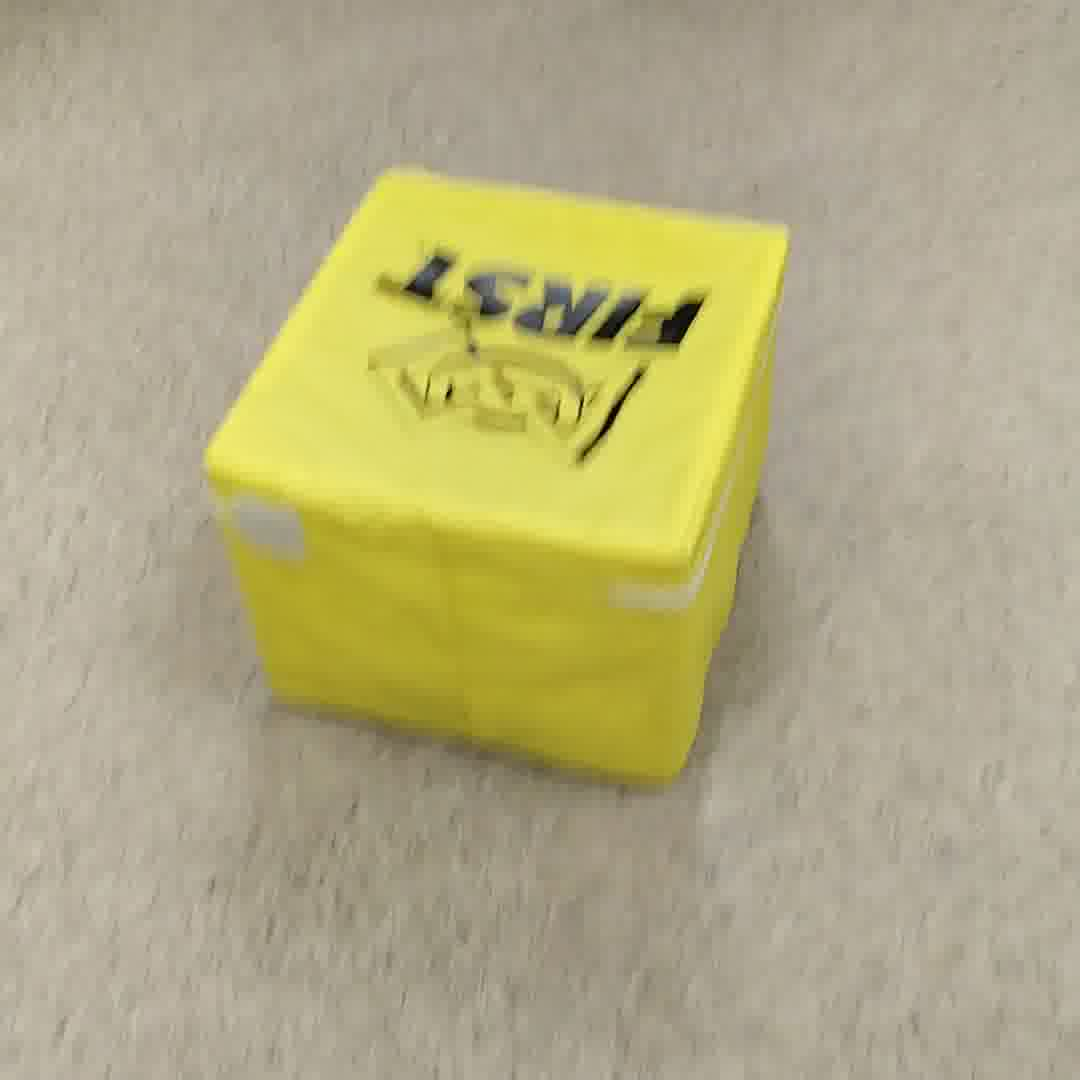box: (181, 141, 804, 781)
